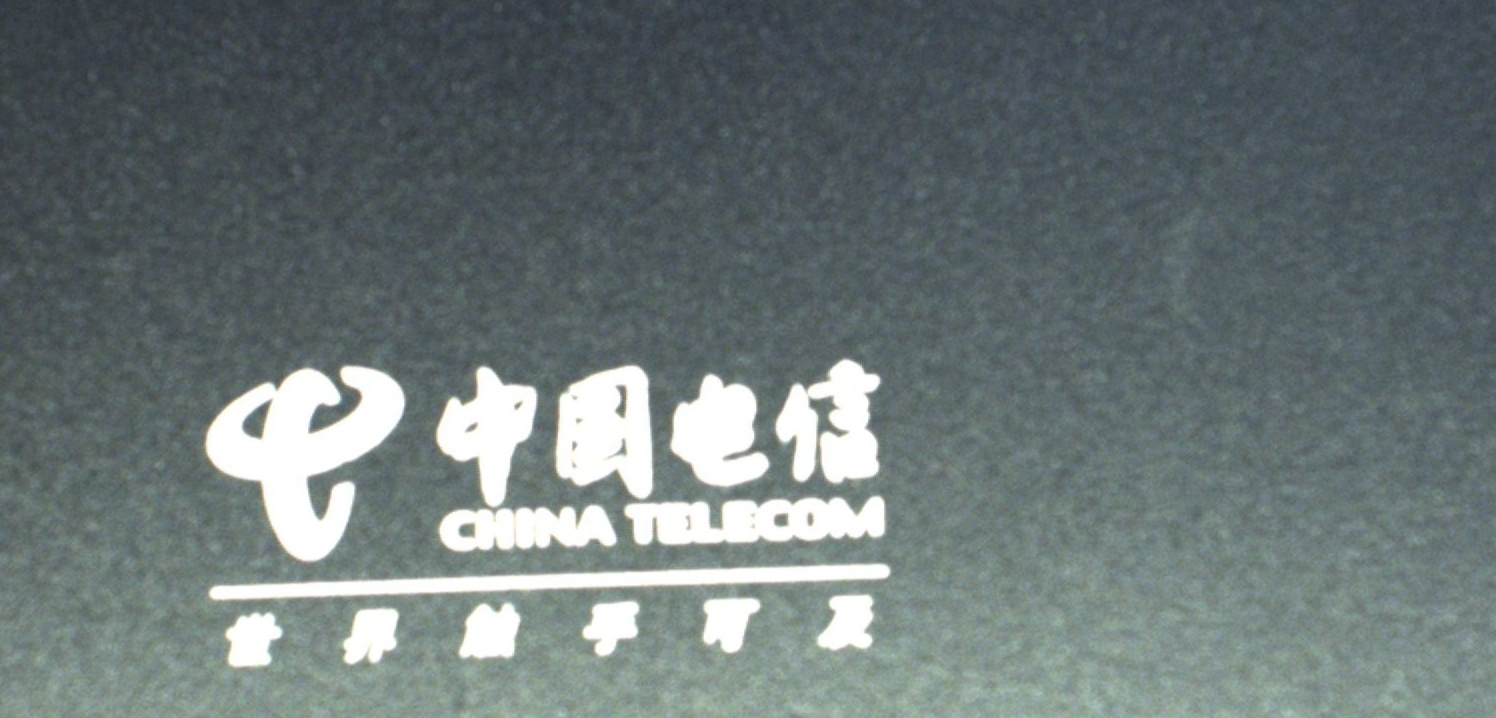AB_ChinaTelecom: (181, 353, 904, 670)
